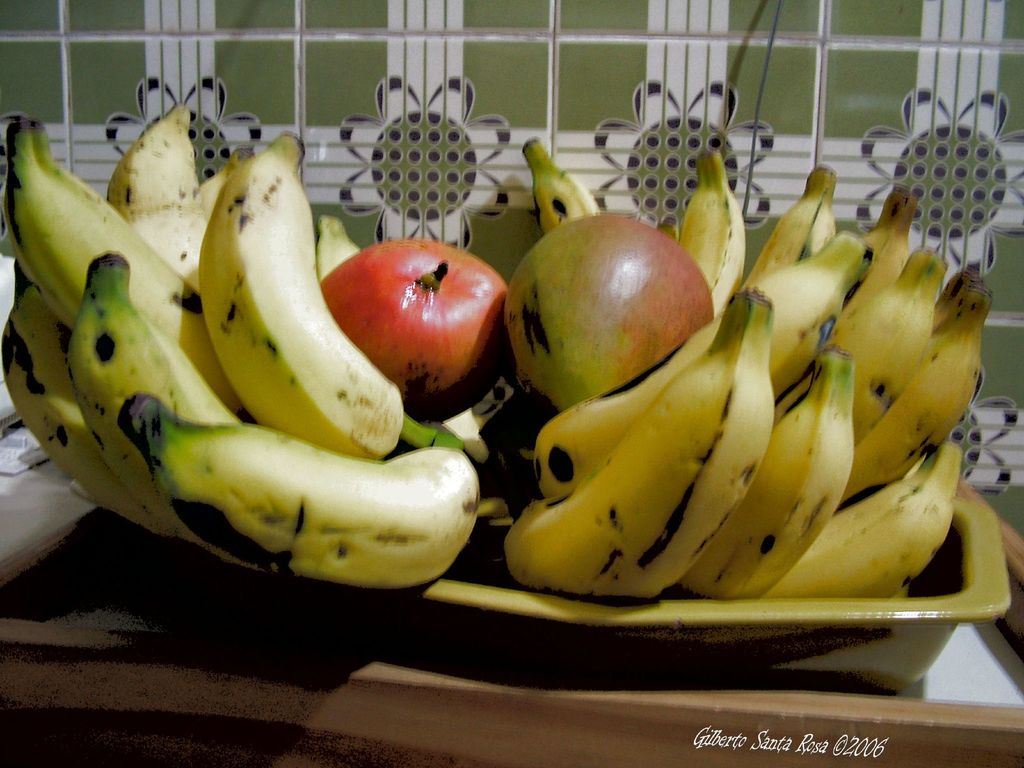Apple: (528, 217, 734, 406)
